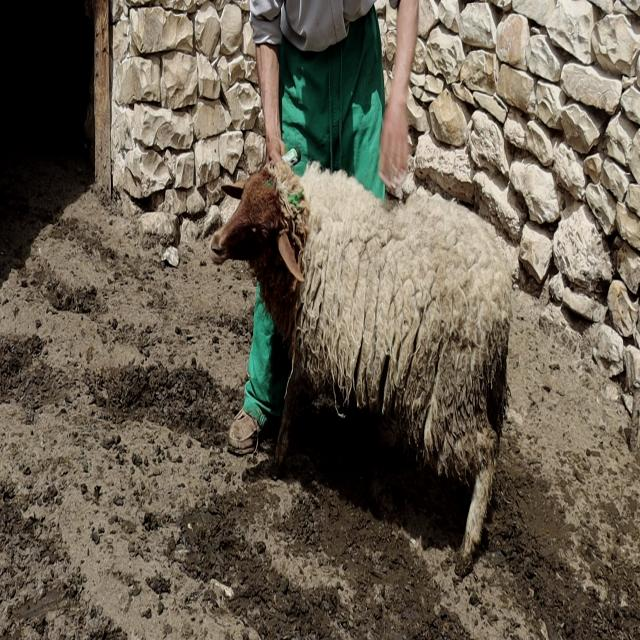Score_2: (211, 161, 512, 569)
